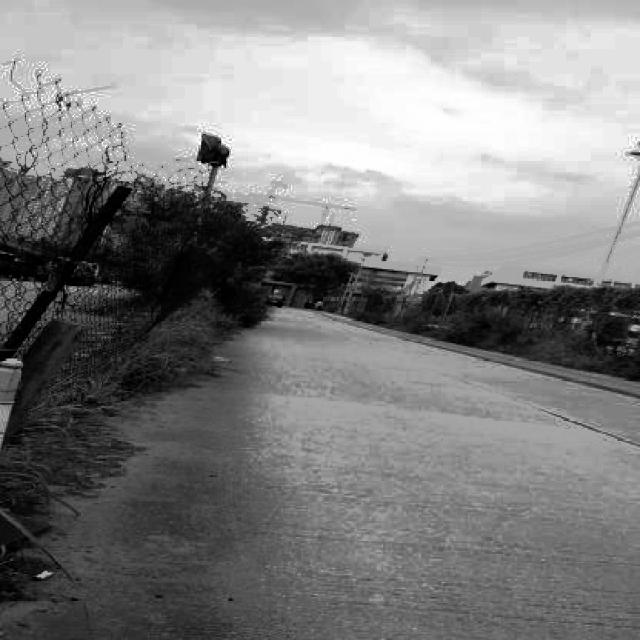anomaly-fence: (0, 38, 242, 386)
